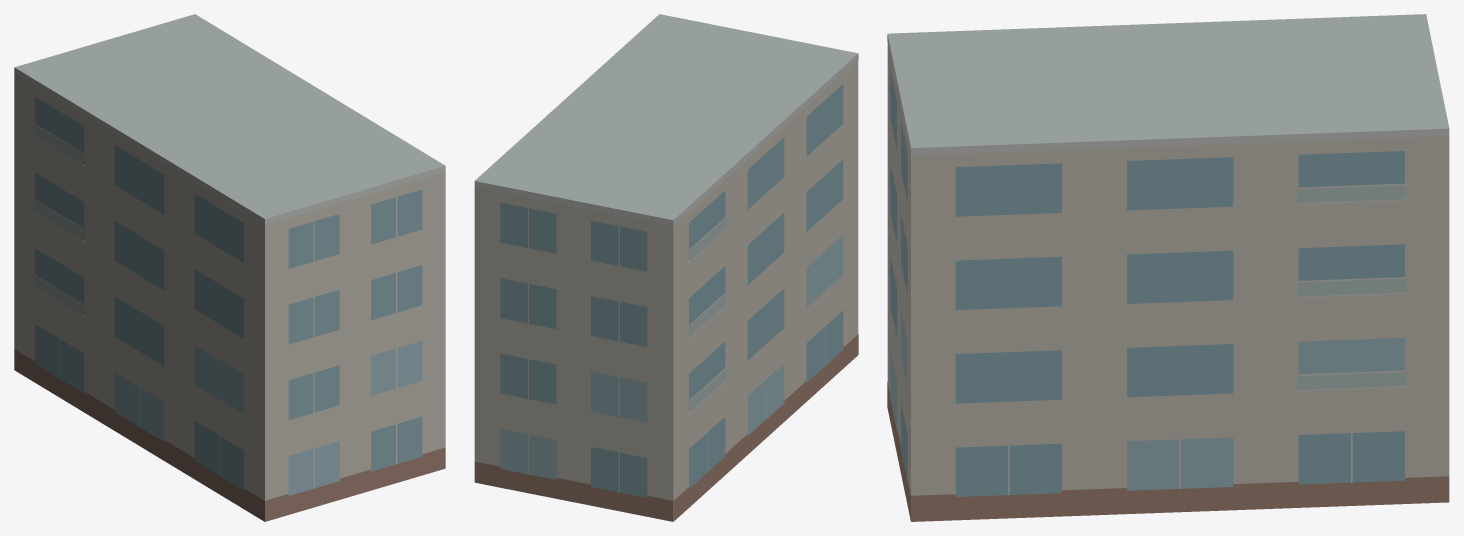
Rendered from survey-upis-32702345.glb.
3 renders of one model, left to right at view 1: azimuth 30°, elevation 25°; view 2: azimuth 150°, elevation 25°; view 3: azimuth 270°, elevation 25°, orthographic. The views are drawn at different scales.
Parts seen in each view (by area): view 1: survey-upis-32702345.tmp; view 2: survey-upis-32702345.tmp; view 3: survey-upis-32702345.tmp.
Boxes of the visible parts, x1,y1,x2,y2 form: survey-upis-32702345.tmp: [14, 14, 445, 521]; survey-upis-32702345.tmp: [474, 14, 858, 521]; survey-upis-32702345.tmp: [887, 14, 1449, 521].
Bounding box in the file's own units: 9.4 × 12.2 × 16.63.
